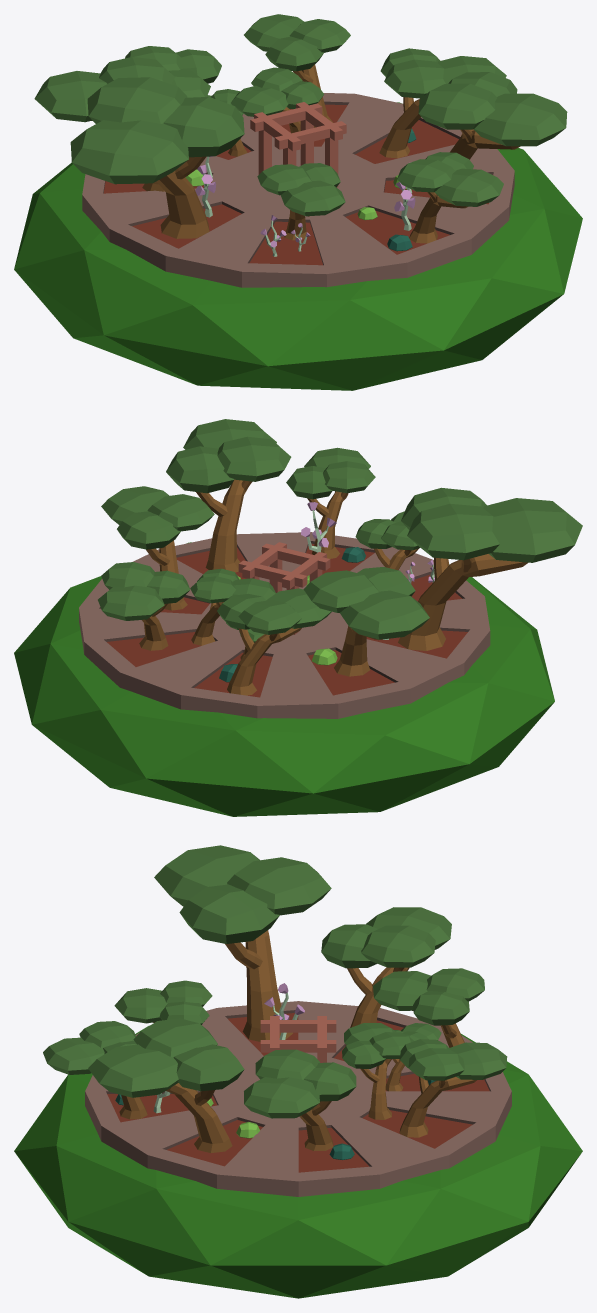
The model's file is Garden.fbx.
3 views of the same model, one above another, from view 1: azimuth 30°, elevation 25°; view 2: azimuth 150°, elevation 25°; view 3: azimuth 270°, elevation 25° (orthographic). The views are drawn at different scales.
Parts seen in each view (by area): view 1: Leaves, Circle, Tree.006, Tree.009, Tree.005, Tree.002, Tree.004, Cube, Tree.008, Tree, Tree.003, Tree.007 (+3 smaller); view 2: Leaves, Circle, Tree.006, Tree.009, Tree.008, Tree.002, Tree.007, Tree.004, Tree.005, Cube, Tree.003, Tree (+1 smaller); view 3: Leaves, Circle, Tree.006, Tree.009, Tree.008, Tree.002, Tree.004, Tree.007, Tree.005, Tree.003, Tree, Cube (+1 smaller).
Part boxes in pixels (x1=…): Leaves: x1=14, y1=102, x2=582, y2=390; Circle: x1=82, y1=93, x2=514, y2=287; Tree.006: x1=70, y1=77, x2=244, y2=238; Tree.009: x1=418, y1=72, x2=567, y2=159; Tree.005: x1=397, y1=152, x2=503, y2=243; Tree.002: x1=379, y1=48, x2=506, y2=158; Tree.004: x1=244, y1=14, x2=350, y2=127; Cube: x1=250, y1=102, x2=346, y2=187; Tree.008: x1=34, y1=57, x2=175, y2=191; Tree: x1=257, y1=163, x2=345, y2=240; Tree.003: x1=231, y1=67, x2=324, y2=133; Tree.007: x1=125, y1=46, x2=221, y2=97; Leaves: x1=14, y1=542, x2=554, y2=816; Circle: x1=79, y1=532, x2=490, y2=718; Tree.006: x1=398, y1=487, x2=582, y2=650; Tree.009: x1=166, y1=419, x2=291, y2=572; Tree.008: x1=303, y1=567, x2=429, y2=676; Tree.002: x1=101, y1=486, x2=214, y2=610; Tree.007: x1=217, y1=588, x2=331, y2=695; Tree.004: x1=98, y1=562, x2=190, y2=650; Tree.005: x1=286, y1=447, x2=375, y2=558; Cube: x1=238, y1=542, x2=330, y2=634; Tree.003: x1=190, y1=568, x2=275, y2=645; Tree: x1=355, y1=511, x2=420, y2=569; Leaves: x1=14, y1=1025, x2=582, y2=1298; Circle: x1=85, y1=1001, x2=511, y2=1196; Tree.006: x1=154, y1=845, x2=331, y2=1041; Tree.009: x1=88, y1=1018, x2=244, y2=1152; Tree.008: x1=321, y1=907, x2=451, y2=1045; Tree.002: x1=244, y1=1049, x2=356, y2=1150; Tree.004: x1=399, y1=1039, x2=507, y2=1137; Tree.007: x1=373, y1=968, x2=484, y2=1047; Tree.005: x1=43, y1=1021, x2=147, y2=1119; Tree.003: x1=342, y1=1023, x2=413, y2=1119; Tree: x1=114, y1=980, x2=212, y2=1024; Cube: x1=260, y1=1016, x2=336, y2=1062.
Bounding box in the file's own units: 7579 × 4205 × 7551.
